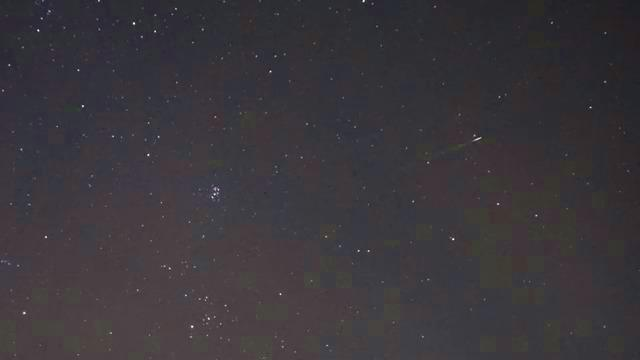meteorite: (444, 133, 500, 148)
